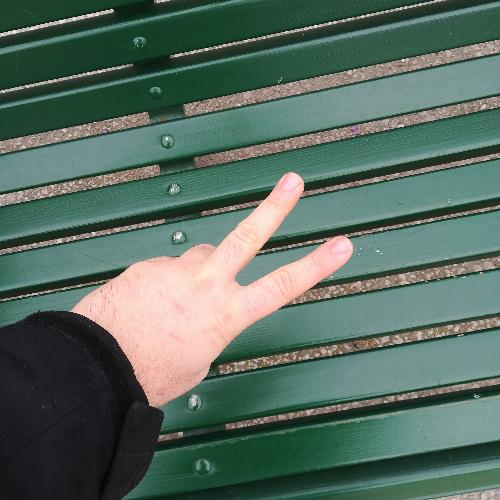scissors: (71, 168, 358, 411)
